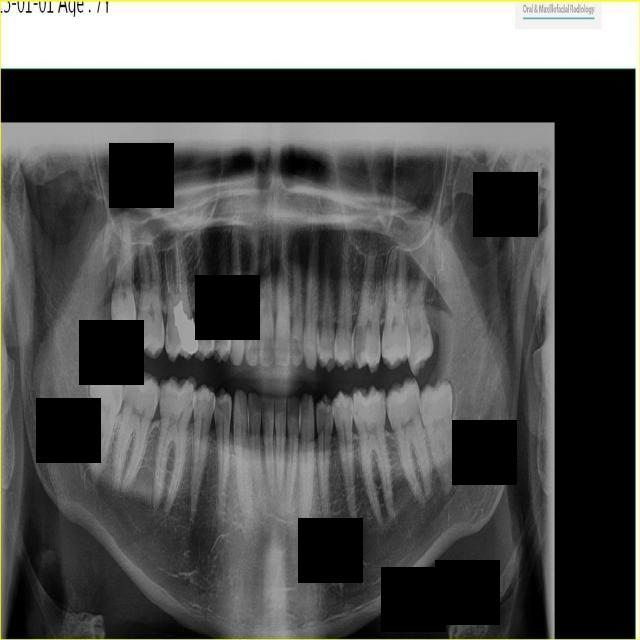74: (163, 248, 171, 292), (177, 245, 182, 290), (175, 245, 179, 287), (170, 256, 174, 289)
NucleOSS Implant: (166, 297, 204, 358)
Sterngold Implant: (349, 320, 368, 362), (385, 401, 392, 416), (187, 396, 195, 409), (354, 405, 359, 417), (382, 401, 386, 413)
